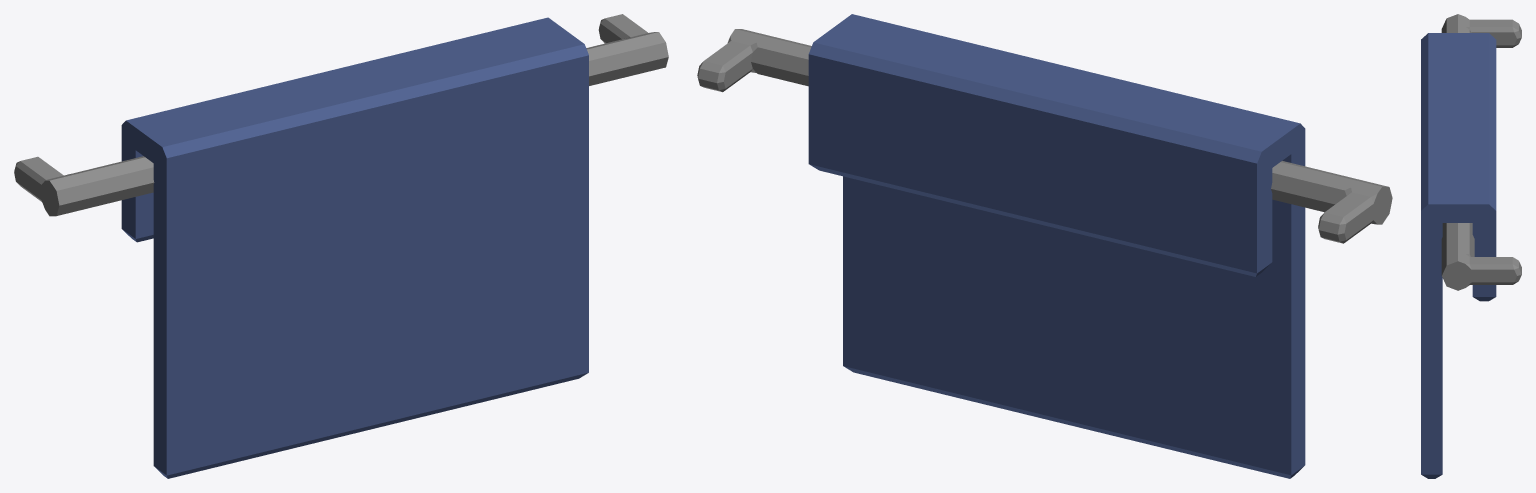
Rendered from towel_rack.gltf.
3 renders of one model, left to right at view 1: azimuth 30°, elevation 25°; view 2: azimuth 150°, elevation 25°; view 3: azimuth 270°, elevation 25°, orthographic. The views are drawn at different scales.
Parts seen in each view (by area): view 1: Towel holder; view 2: Towel holder; view 3: Towel holder.
Boxes of the visible parts, x1=… form: Towel holder: x1=14, y1=14, x2=668, y2=478; Towel holder: x1=697, y1=14, x2=1392, y2=478; Towel holder: x1=1421, y1=14, x2=1521, y2=478.
Size of the model in its own units: 4.95 by 2.59 by 0.8544.
